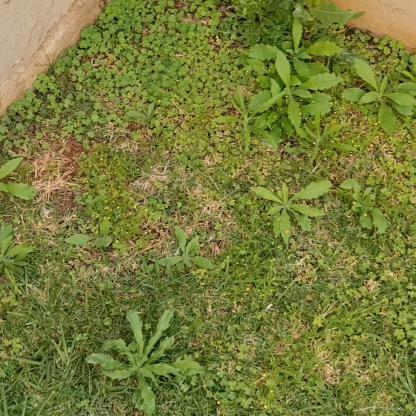Weeds: (248, 55, 342, 136)
